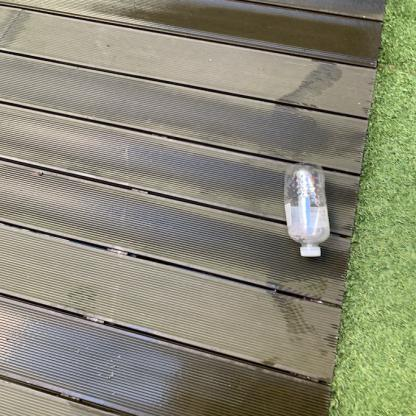plastic-bottles: (283, 164, 337, 259)
